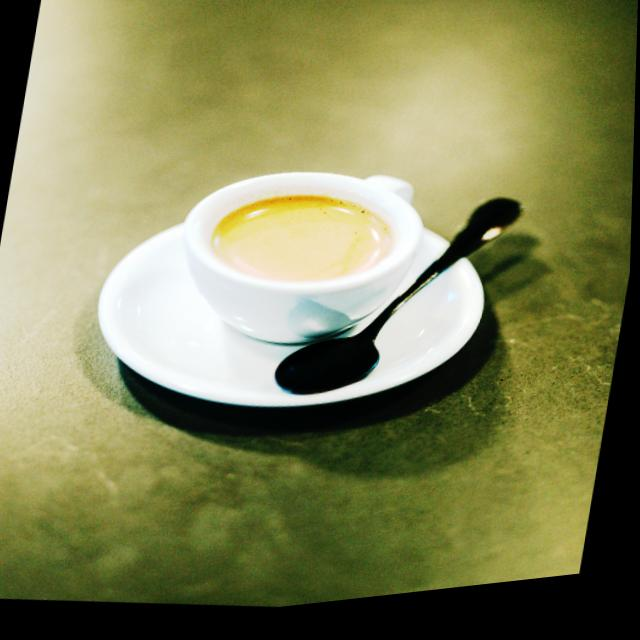drink: (179, 175, 423, 345)
